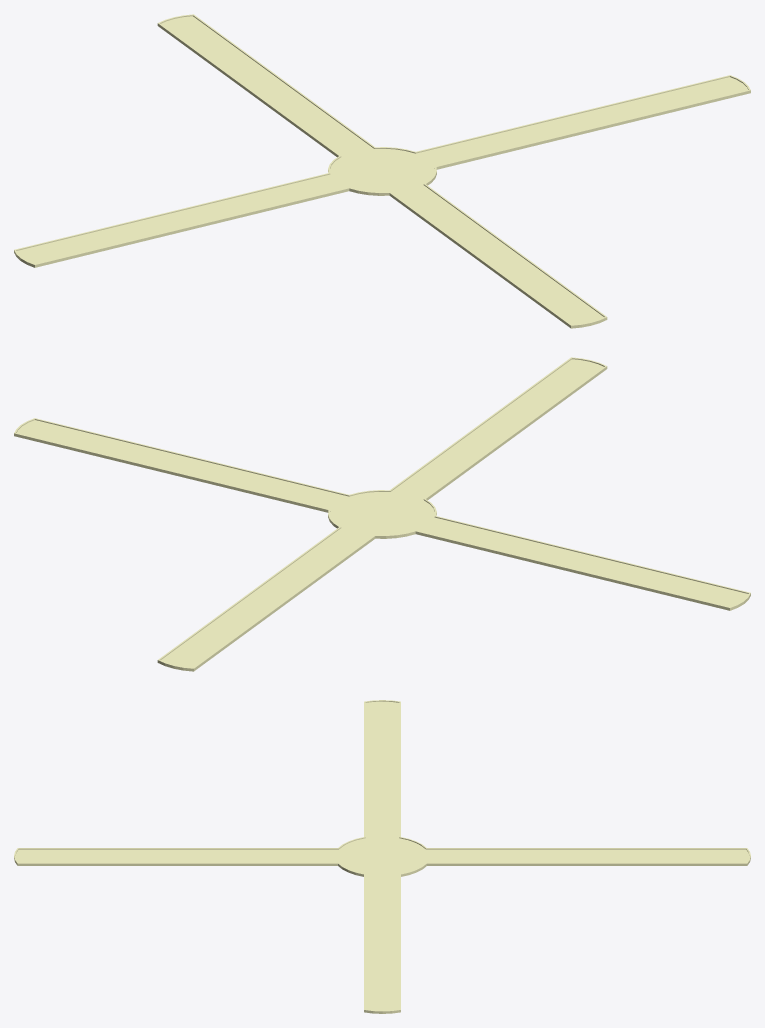
Rendered from pathway.fbx.
3 renders of one model, top to bottom at view 1: azimuth 30°, elevation 25°; view 2: azimuth 150°, elevation 25°; view 3: azimuth 270°, elevation 25°, orthographic. The views are drawn at different scales.
Parts seen in each view (by area): view 1: Cylinder; view 2: Cylinder; view 3: Cylinder.
Part boxes in pixels (left/top/right/bottom): Cylinder: left=14, top=14, right=750, bottom=328; Cylinder: left=14, top=357, right=750, bottom=671; Cylinder: left=14, top=700, right=750, bottom=1013.
Bounding box in the file's own units: 11502 × 43 × 11502.
